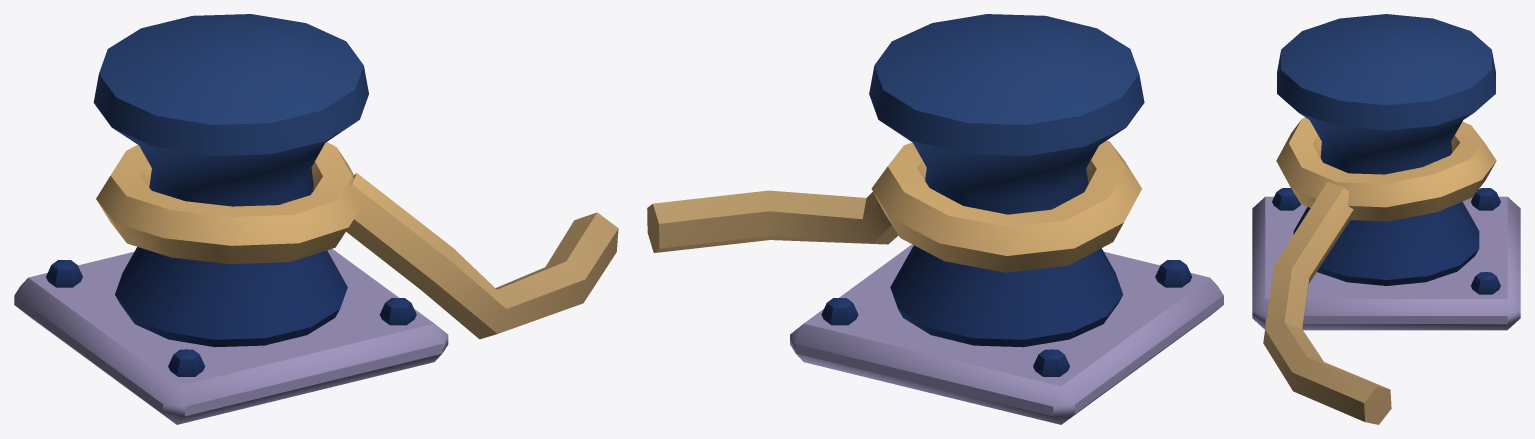
The model's file is bollard.glb.
3 views of the same model, side by side, from view 1: azimuth 30°, elevation 25°; view 2: azimuth 150°, elevation 25°; view 3: azimuth 270°, elevation 25° (orthographic). The views are drawn at different scales.
Parts seen in each view (by area): view 1: bollard; view 2: bollard; view 3: bollard.
Boxes of the visible parts, bbox=[...] form: bollard: bbox=[14, 14, 618, 424]; bollard: bbox=[647, 14, 1223, 424]; bollard: bbox=[1252, 14, 1520, 424].
Size of the model in its own units: 1.12 by 0.6199 by 0.62.
